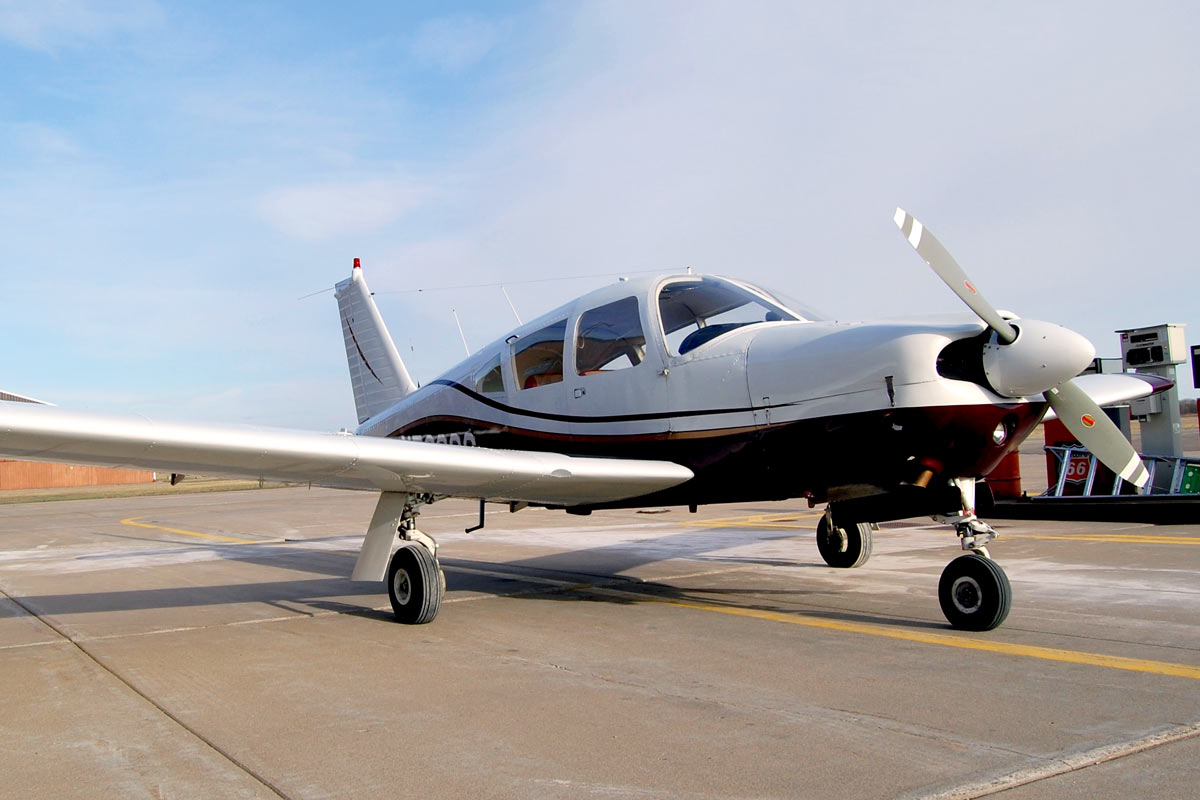Propeller: (874, 195, 1179, 495)
